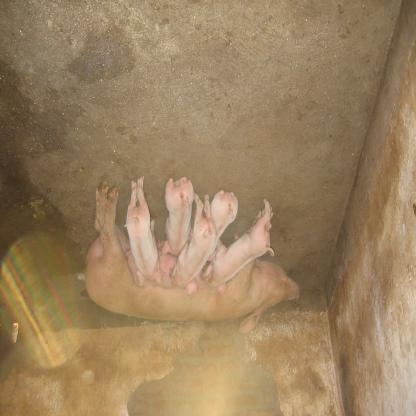boar: (77, 178, 301, 334)
